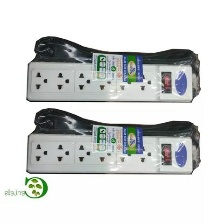three_eye_plug: (22, 127, 198, 176), (24, 58, 197, 104)
